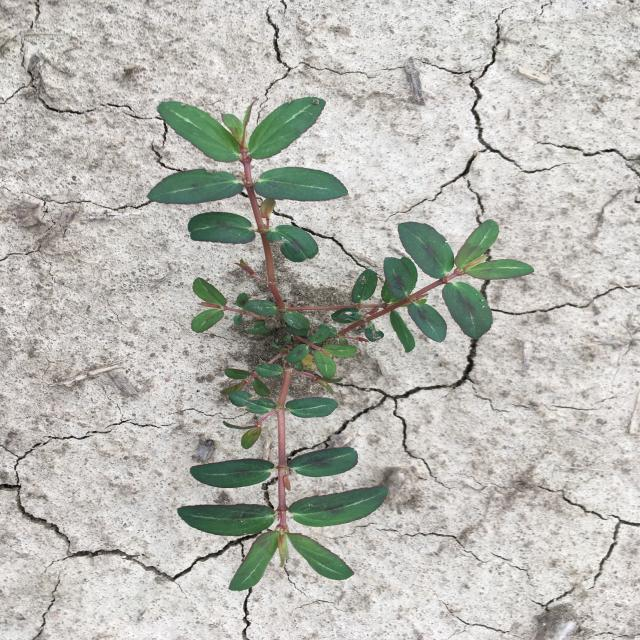SpottedSpurge: (148, 96, 536, 591)
